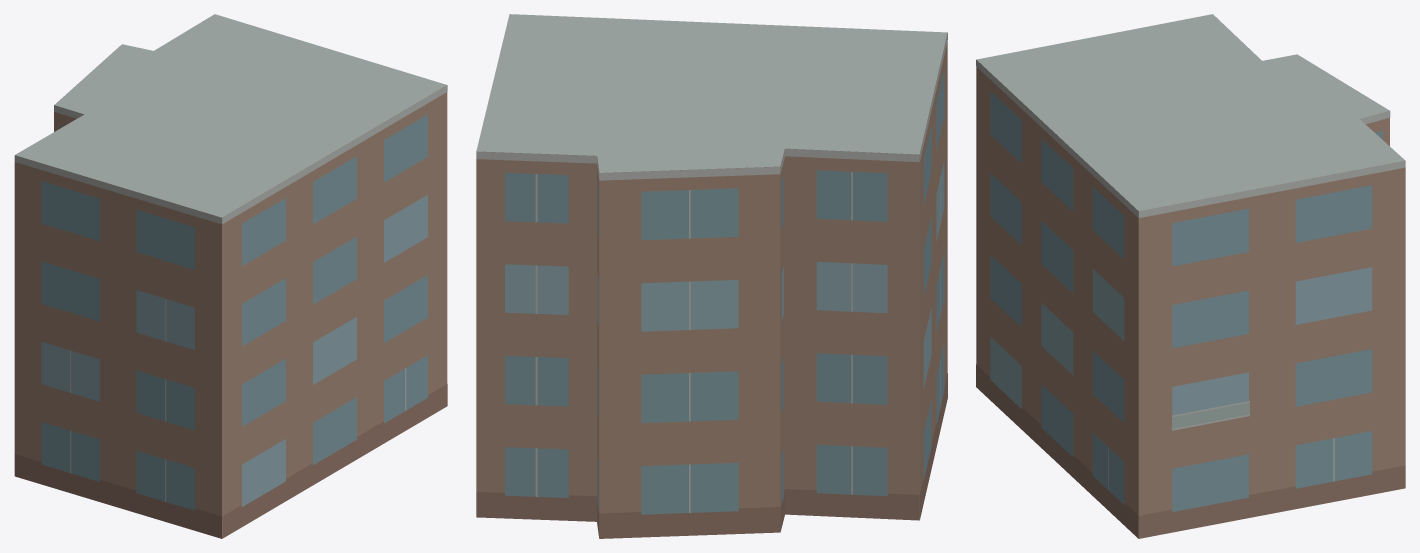
File: survey-upis-32924827.glb
The picture shows the model from 3 angles, left to right: view 1: azimuth 30°, elevation 25°; view 2: azimuth 150°, elevation 25°; view 3: azimuth 270°, elevation 25°; orthographic projection. The views are drawn at different scales.
Visible parts, largest first — view 1: survey-upis-32924827.tmp; view 2: survey-upis-32924827.tmp; view 3: survey-upis-32924827.tmp.
Part boxes in pixels (bbox=[...]): survey-upis-32924827.tmp: bbox=[14, 14, 447, 538]; survey-upis-32924827.tmp: bbox=[476, 14, 947, 538]; survey-upis-32924827.tmp: bbox=[976, 14, 1405, 538].
Size of the model in its own units: 14.99 by 11.6 by 13.79.
